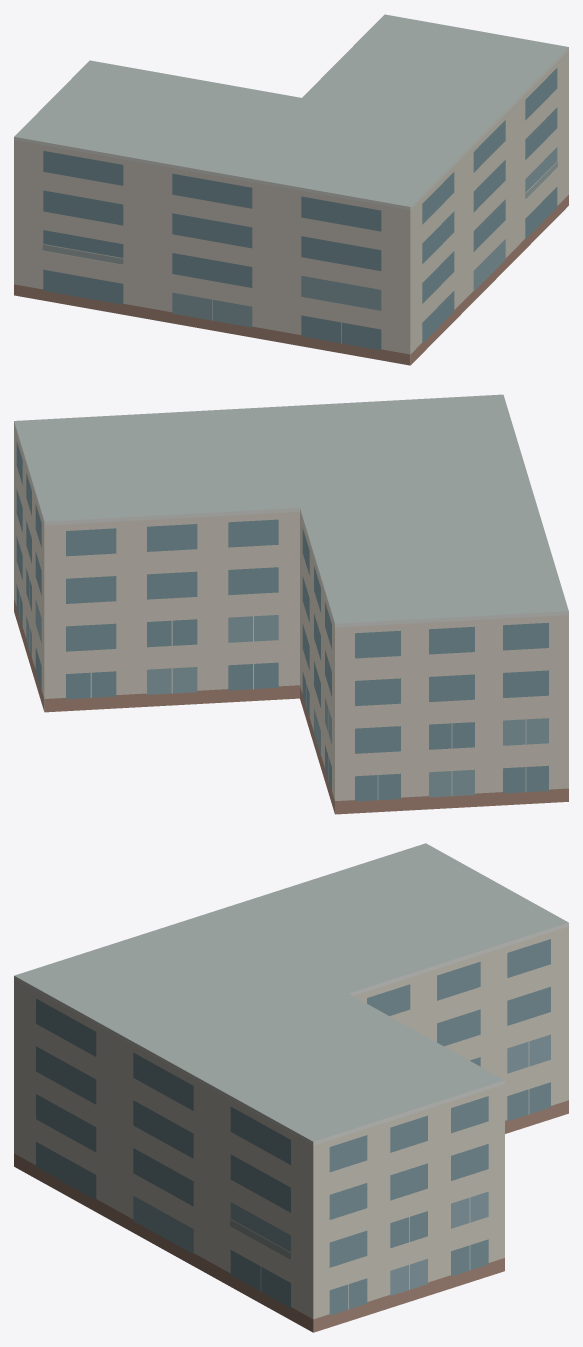
The model's file is residential-1e2c5987-9b9a-4ac7-8e46-89643e7963f2.glb.
The picture shows the model from 3 angles, top to bottom: view 1: azimuth 30°, elevation 25°; view 2: azimuth 150°, elevation 25°; view 3: azimuth 270°, elevation 25°; orthographic projection. The views are drawn at different scales.
Visible parts, largest first — view 1: residential-1e2c5987-9b9a-4ac7-8e46-89643e7963f2.tmp; view 2: residential-1e2c5987-9b9a-4ac7-8e46-89643e7963f2.tmp; view 3: residential-1e2c5987-9b9a-4ac7-8e46-89643e7963f2.tmp.
Part boxes in pixels (x1=…): residential-1e2c5987-9b9a-4ac7-8e46-89643e7963f2.tmp: x1=14, y1=14, x2=568, y2=365; residential-1e2c5987-9b9a-4ac7-8e46-89643e7963f2.tmp: x1=14, y1=394, x2=568, y2=814; residential-1e2c5987-9b9a-4ac7-8e46-89643e7963f2.tmp: x1=14, y1=843, x2=568, y2=1332.
Size of the model in its own units: 40.92 by 12.2 by 32.14.
